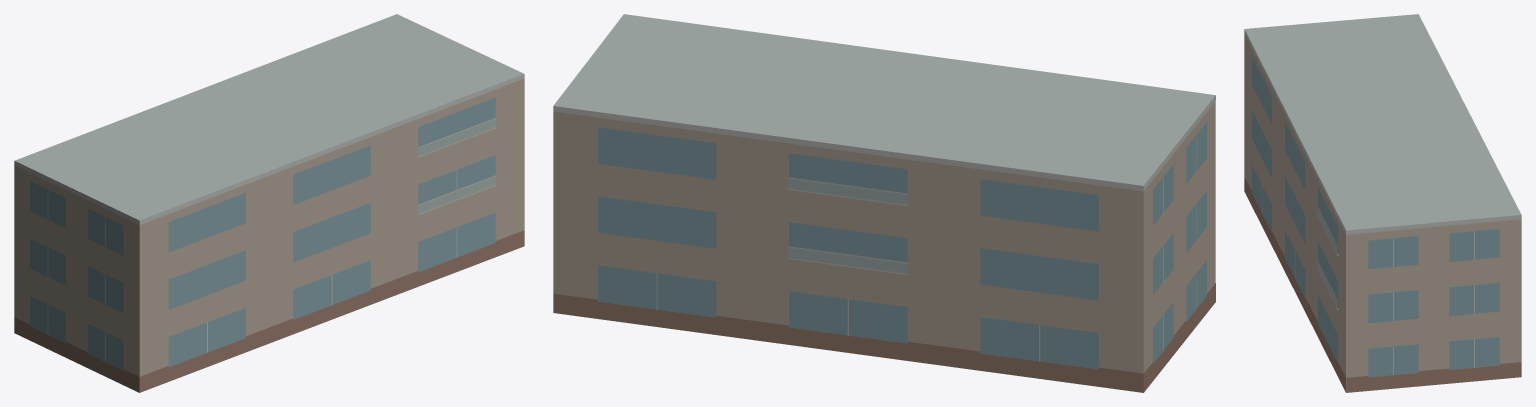
File: survey-upis-32801552.glb
The picture shows the model from 3 angles, left to right: view 1: azimuth 30°, elevation 25°; view 2: azimuth 150°, elevation 25°; view 3: azimuth 270°, elevation 25°; orthographic projection. The views are drawn at different scales.
Parts seen in each view (by area): view 1: survey-upis-32801552.tmp; view 2: survey-upis-32801552.tmp; view 3: survey-upis-32801552.tmp.
Part boxes in pixels (x1,y1,x2,y2): survey-upis-32801552.tmp: (14,14,524,392); survey-upis-32801552.tmp: (553,14,1215,392); survey-upis-32801552.tmp: (1244,14,1521,392).
Bounding box in the file's own units: 26.2 × 9.15 × 14.18.
